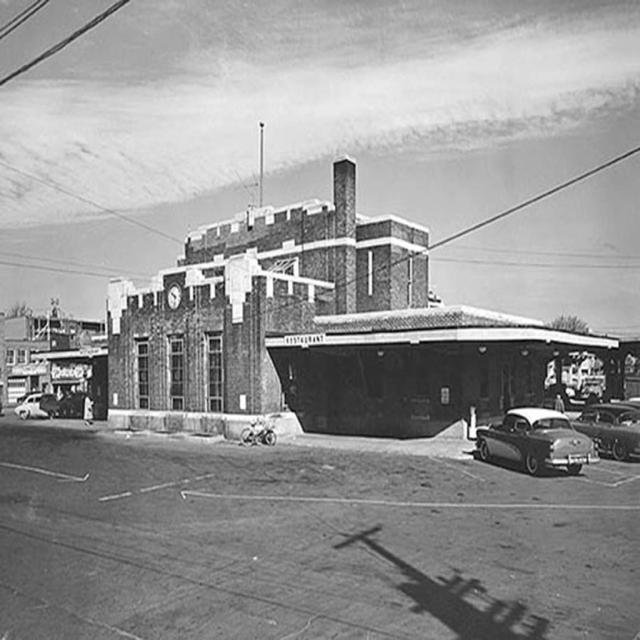car: (467, 403, 603, 479)
